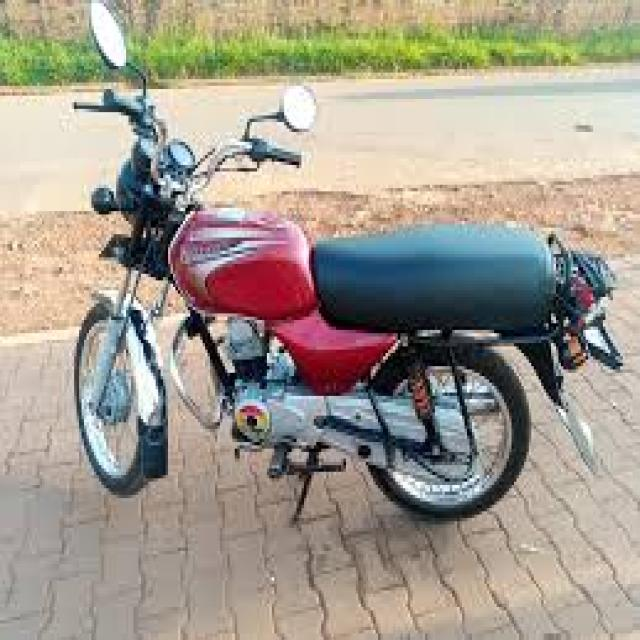bodaboda: (45, 0, 616, 550)
